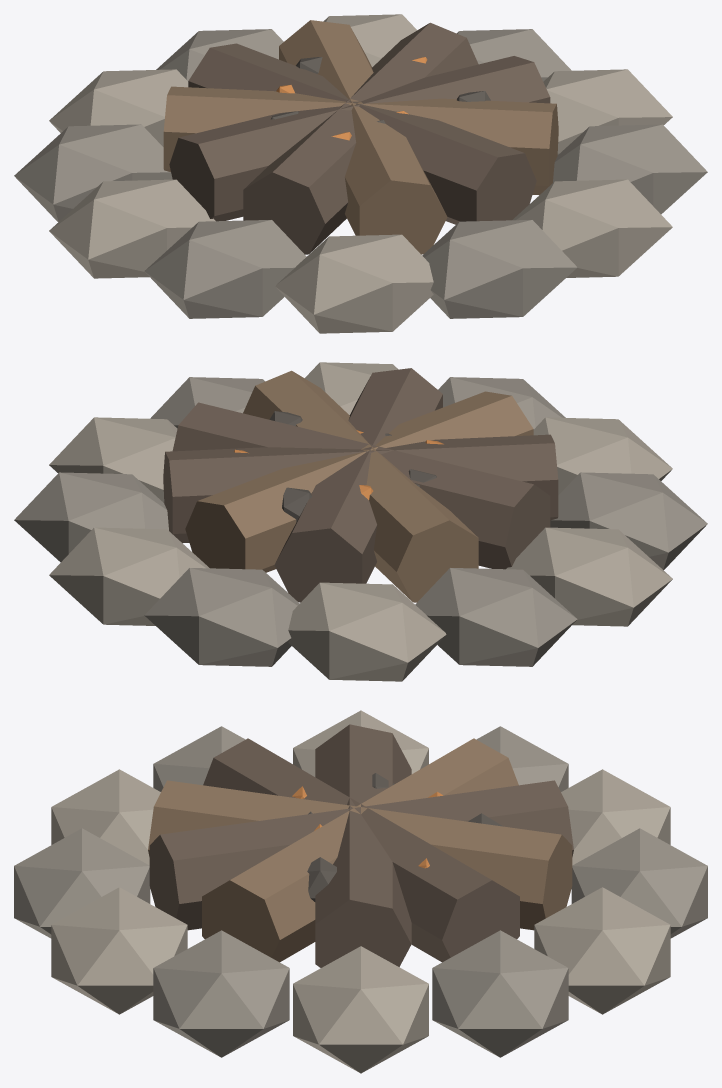
Rendered from campfire.glb.
3 renders of one model, top to bottom at view 1: azimuth 30°, elevation 25°; view 2: azimuth 150°, elevation 25°; view 3: azimuth 270°, elevation 25°, orthographic. The views are drawn at different scales.
Visible parts, largest first — view 1: charred_log_2, charred_log_4, charred_log, charred_log_3, charred_log_1, stone_4, stone_3, stone_5, stone_6, stone_2, stone_7, stone_1 (+5 smaller); view 2: charred_log_3, charred_log, charred_log_2, charred_log_1, charred_log_4, stone_8, stone_9, stone_7, stone_6, stone_10, stone_5, stone_11 (+6 smaller); view 3: charred_log_3, charred_log_4, charred_log_2, charred_log_1, charred_log, stone_1, stone_11, stone, stone_2, stone_10, stone_3, stone_9 (+6 smaller).
Boxes of the visible parts, left/top/right/bottom form: charred_log_2: left=188, top=43, right=536, bottom=224; charred_log_4: left=243, top=22, right=478, bottom=254; charred_log: left=169, top=56, right=550, bottom=221; charred_log_3: left=279, top=20, right=447, bottom=254; charred_log_1: left=163, top=86, right=558, bottom=195; stone_4: left=275, top=234, right=433, bottom=333; stone_3: left=422, top=220, right=577, bottom=318; stone_5: left=144, top=220, right=306, bottom=318; stone_6: left=49, top=179, right=215, bottom=278; stone_2: left=512, top=179, right=672, bottom=277; stone_7: left=14, top=124, right=172, bottom=222; stone_1: left=553, top=124, right=707, bottom=214; charred_log_3: left=185, top=391, right=533, bottom=572; charred_log: left=172, top=402, right=550, bottom=569; charred_log_2: left=274, top=368, right=442, bottom=602; charred_log_1: left=243, top=370, right=478, bottom=602; charred_log_4: left=163, top=434, right=558, bottom=543; stone_8: left=288, top=582, right=446, bottom=681; stone_9: left=144, top=568, right=299, bottom=666; stone_7: left=415, top=568, right=577, bottom=666; stone_6: left=506, top=527, right=672, bottom=626; stone_10: left=49, top=527, right=209, bottom=625; stone_5: left=550, top=472, right=707, bottom=570; stone_11: left=14, top=472, right=168, bottom=562; charred_log_3: left=148, top=780, right=572, bottom=930; charred_log_4: left=203, top=738, right=519, bottom=962; charred_log_2: left=149, top=780, right=573, bottom=930; charred_log_1: left=202, top=738, right=518, bottom=962; charred_log: left=315, top=724, right=411, bottom=967; stone_1: left=153, top=930, right=289, bottom=1057; stone_11: left=432, top=930, right=568, bottom=1057; stone: left=293, top=946, right=428, bottom=1073; stone_2: left=51, top=887, right=187, bottom=1014; stone_10: left=534, top=887, right=670, bottom=1014; stone_3: left=14, top=828, right=150, bottom=938; stone_9: left=571, top=828, right=707, bottom=938.
Bounding box in the file's own units: 1.11 × 0.2079 × 1.07.
